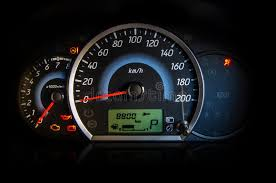Digital_Meter: (107, 109, 165, 134)
